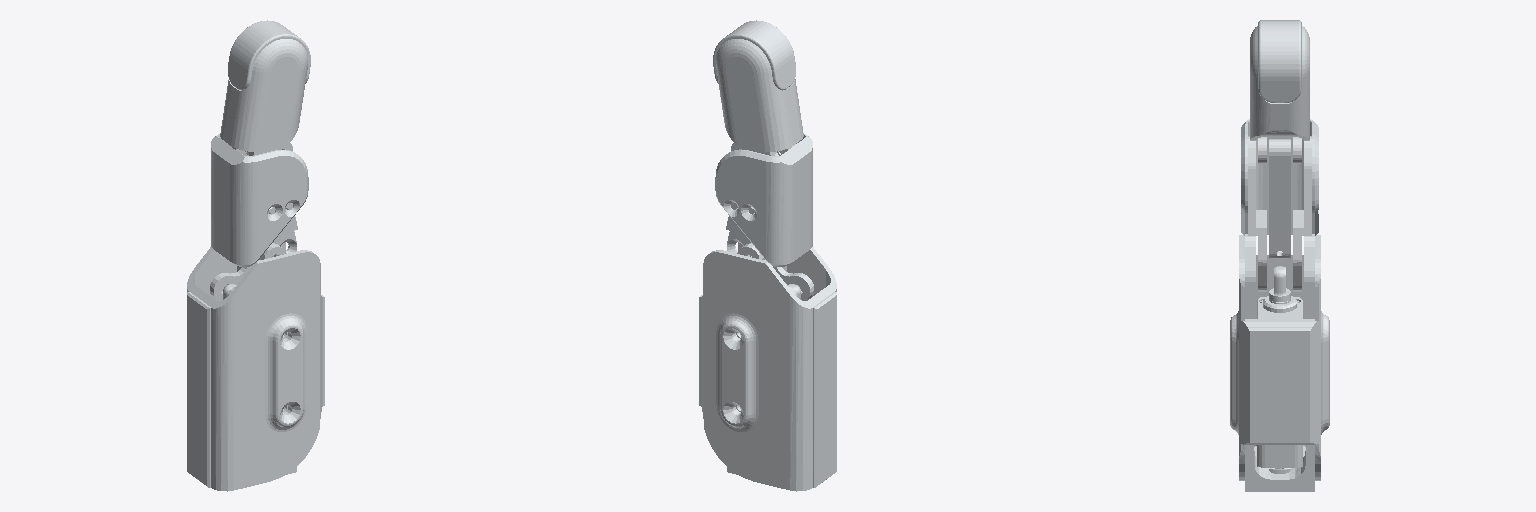
robot.urdf — thumb_simple:
<robot name="thumb_simple">
  <link name="Base_Link">
    <inertial>
      <origin xyz="-0.00475219 0.00062534 -0.03793806" rpy="0 0 0" />
      <mass value="0.06536031" />
      <inertia ixx="0.00003426" ixy="-0.00000016" ixz="-0.00000312" iyy="0.00003493" iyz="-0.00000034" izz="0.00000381" />
    </inertial>
    <visual>
      <origin xyz="0 0 0" rpy="0 0 0" />
      <geometry>
        <mesh filename="package://thumb_simple/meshes/Base_Link.STL" />
      </geometry>
      <material name="">
        <color rgba="0.898039215686275 0.917647058823529 0.929411764705882 1" />
      </material>
    </visual>
    <collision>
      <origin xyz="0 0 0" rpy="0 0 0" />
      <geometry>
        <mesh filename="package://thumb_simple/meshes/Base_Link.STL" />
      </geometry>
    </collision>
  </link>
  <link name="Link_1">
    <inertial>
      <origin xyz="-0.00287404 0.00000000 0.01627888" rpy="0 0 0" />
      <mass value="0.00740117" />
      <inertia ixx="0.00000103" ixy="0.00000000" ixz="-0.00000003" iyy="0.00000099" iyz="0.00000000" izz="0.00000036" />
    </inertial>
    <visual>
      <origin xyz="0 0 0" rpy="0 0 0" />
      <geometry>
        <mesh filename="package://thumb_simple/meshes/Link_1.STL" />
      </geometry>
      <material name="">
        <color rgba="0.894117647058823 0.913725490196078 0.929411764705882 1" />
      </material>
    </visual>
    <collision>
      <origin xyz="0 0 0" rpy="0 0 0" />
      <geometry>
        <mesh filename="package://thumb_simple/meshes/Link_1.STL" />
      </geometry>
    </collision>
  </link>
  <joint name="Joint_1" type="continuous">
    <origin xyz="0 0 0" rpy="0 0 0" />
    <parent link="Base_Link" />
    <child link="Link_1" />
    <axis xyz="0 1 0" />
  </joint>
  <link name="Link_2">
    <inertial>
      <origin xyz="0.00350288 0.00000000 0.01684791" rpy="0 0 0" />
      <mass value="0.00721927" />
      <inertia ixx="0.00000068" ixy="0.00000000" ixz="-0.00000007" iyy="0.00000073" iyz="0.00000000" izz="0.00000027" />
    </inertial>
    <visual>
      <origin xyz="0 0 0" rpy="0 0 0" />
      <geometry>
        <mesh filename="package://thumb_simple/meshes/Link_2.STL" />
      </geometry>
      <material name="">
        <color rgba="0.894117647058823 0.913725490196078 0.929411764705882 1" />
      </material>
    </visual>
    <collision>
      <origin xyz="0 0 0" rpy="0 0 0" />
      <geometry>
        <mesh filename="package://thumb_simple/meshes/Link_2.STL" />
      </geometry>
    </collision>
  </link>
  <joint name="Joint_2" type="continuous">
    <origin xyz="-0.0041184298500794 0 0.0300462372499902" rpy="0 0 0" />
    <parent link="Link_1" />
    <child link="Link_2" />
    <axis xyz="0 1 0" />
  </joint>
</robot>

--- Facts derived from the render (not from the file) ---
Views: 3 orthographic renders of the robot side by side, from view 1: azimuth 30°, elevation 25°; view 2: azimuth 150°, elevation 25°; view 3: azimuth 270°, elevation 25°.
Robot: thumb_simple — 3 links, 2 joints (2 continuous); root link Base_Link; default pose: all joints at 0.
Visible links, largest first — view 1: Base_Link, Link_1, Link_2; view 2: Base_Link, Link_1, Link_2; view 3: Base_Link, Link_1, Link_2.
Link boxes in pixels (x1=…): Base_Link: x1=187, y1=242, x2=324, y2=491; Link_1: x1=210, y1=134, x2=308, y2=300; Link_2: x1=220, y1=20, x2=310, y2=155; Base_Link: x1=699, y1=242, x2=836, y2=491; Link_1: x1=715, y1=134, x2=813, y2=300; Link_2: x1=713, y1=20, x2=803, y2=155; Base_Link: x1=1230, y1=234, x2=1329, y2=491; Link_1: x1=1241, y1=119, x2=1318, y2=291; Link_2: x1=1250, y1=20, x2=1309, y2=163.
Bounding box of the posed robot: 0.0325 × 0.023 × 0.1211 m (x, y, z).
3 mesh visuals loaded from 3 distinct referenced files (3 binary STL).